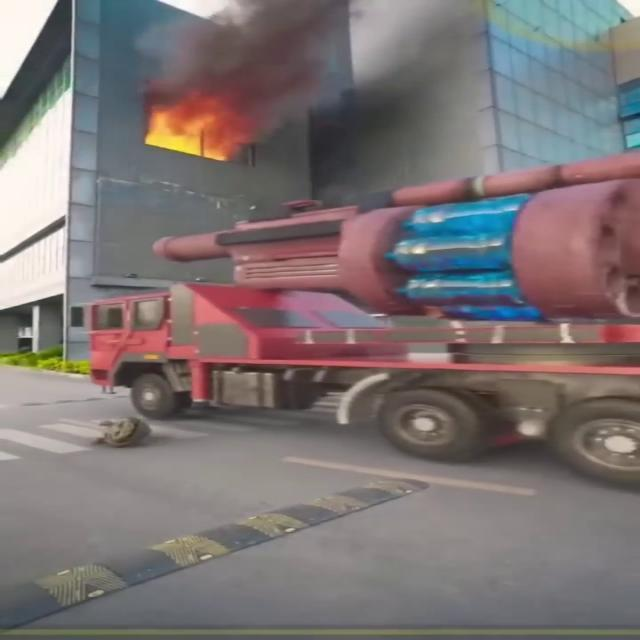Fire: (138, 96, 244, 160)
Smoke: (124, 0, 534, 116)
